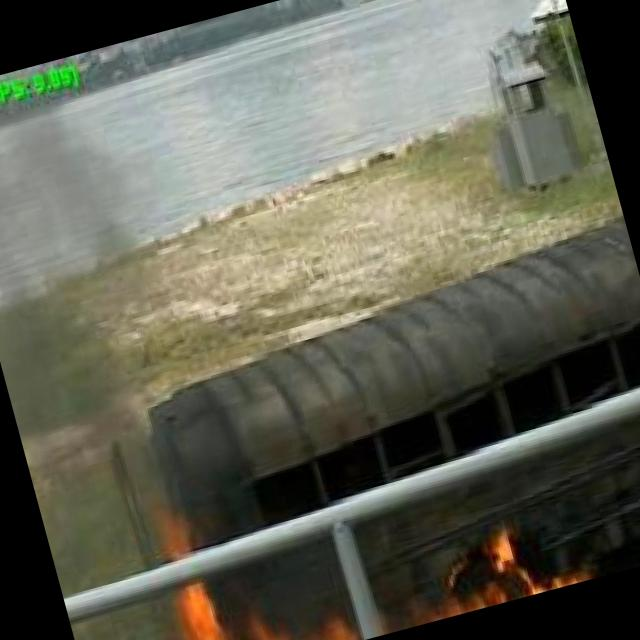Fire: (418, 516, 580, 621), (167, 548, 332, 640)
Smoke: (0, 88, 199, 491)
